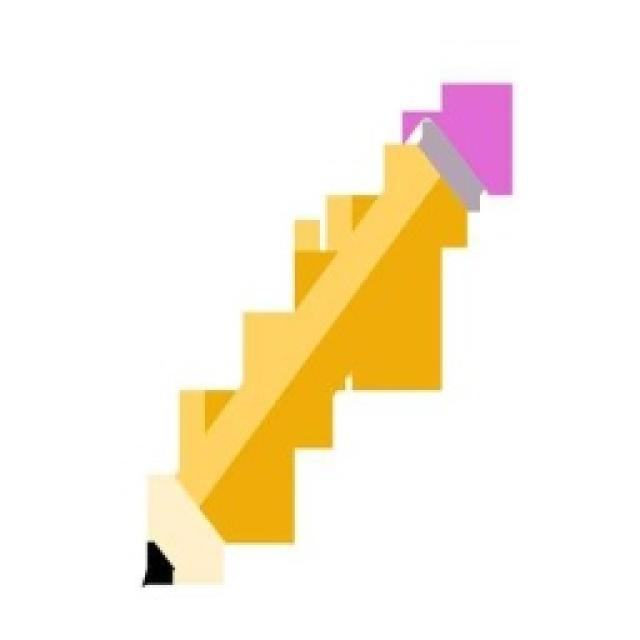pencil: (138, 78, 518, 588)
